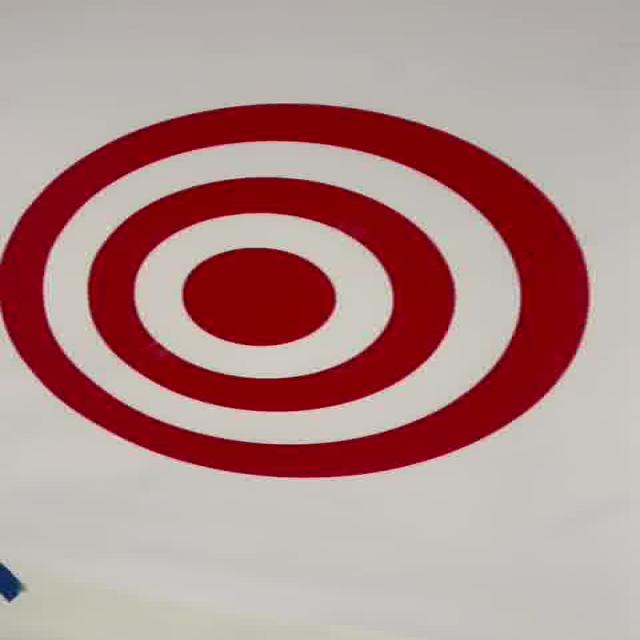target_red: (0, 103, 587, 478)
